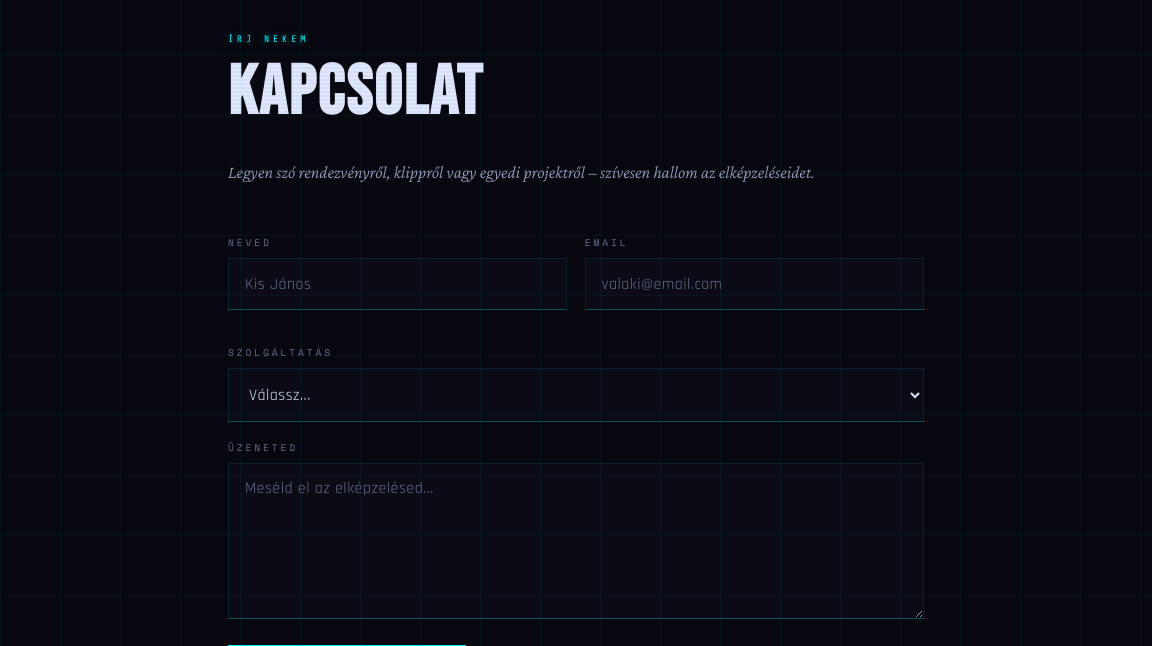
Test: Contact – validáció › üzenet mező üres – hibaüzenet jelenik meg
The image size is (1152, 646).
Type "Teszt Elek" into the field labelled "Neved" at (398, 284), box [228,258,567,310]
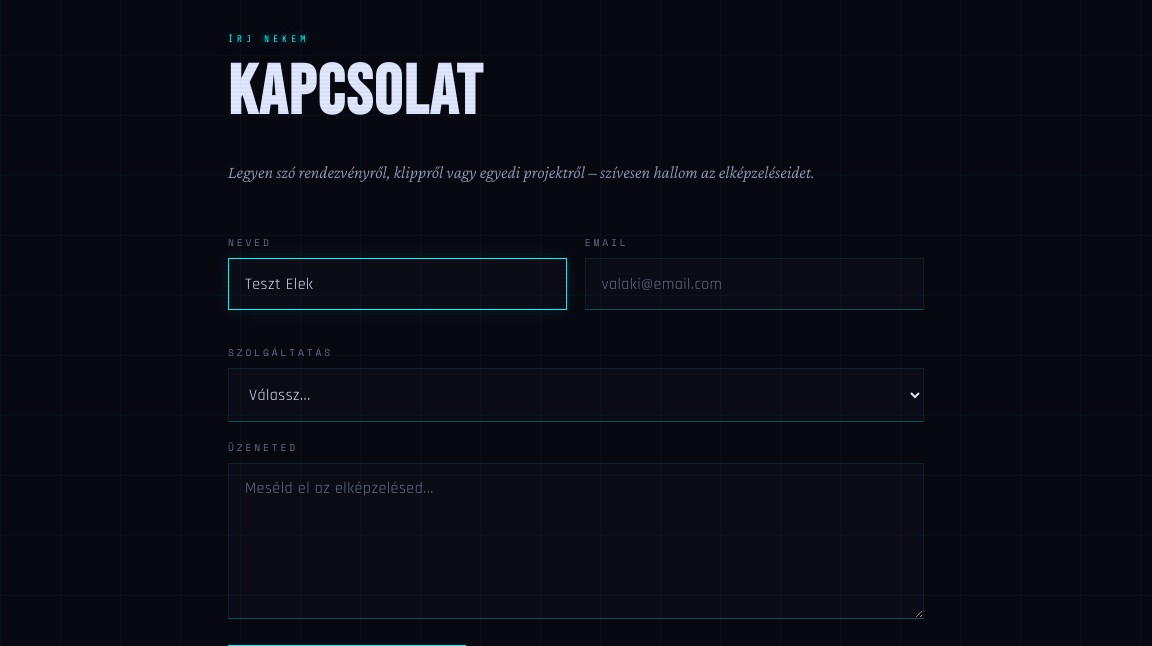
Type "teszt@email.com" into the field labelled "Email" at (754, 284), box [585,258,924,310]
(page scrolled)
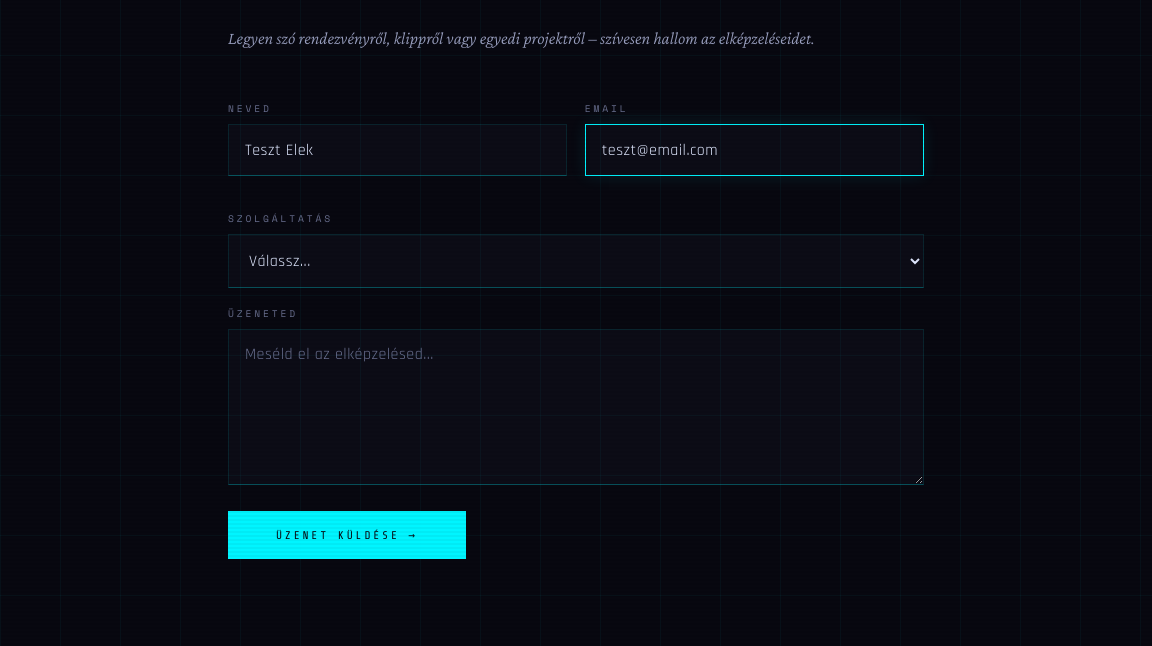
Click the button "Üzenet küldése →" at (347, 535), box [228,511,466,559]
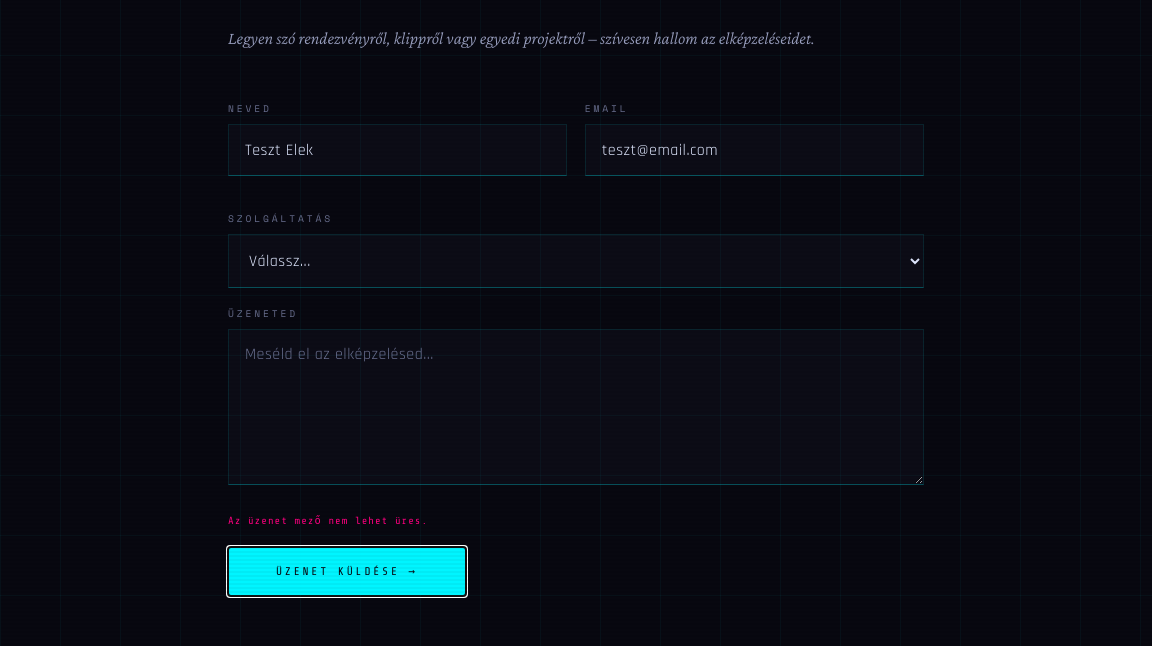
Expected: the text "Az üzenet mező nem lehet üres." is shown, [228,515,428,527]
